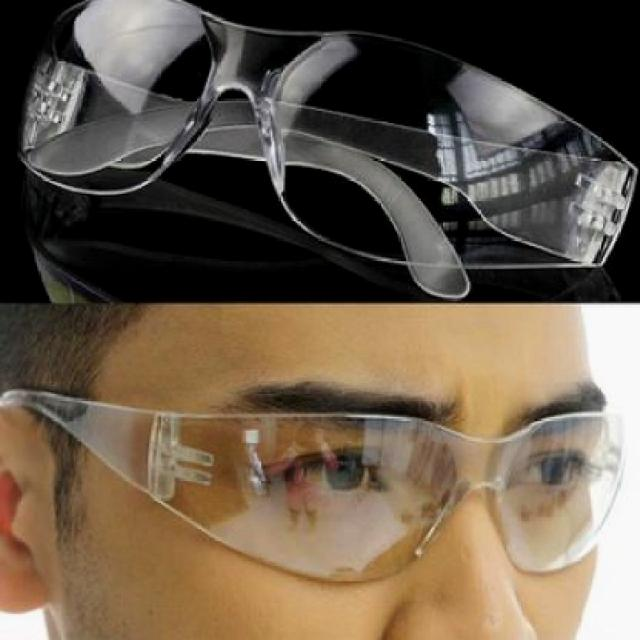glasses: (0, 383, 632, 580)
